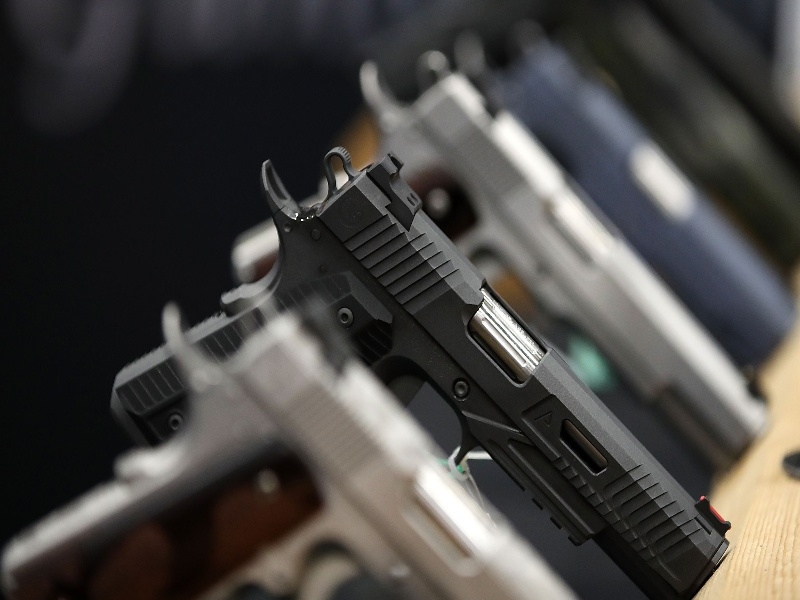gun: (110, 133, 710, 599), (244, 58, 770, 467), (1, 301, 584, 597), (313, 52, 795, 368)
